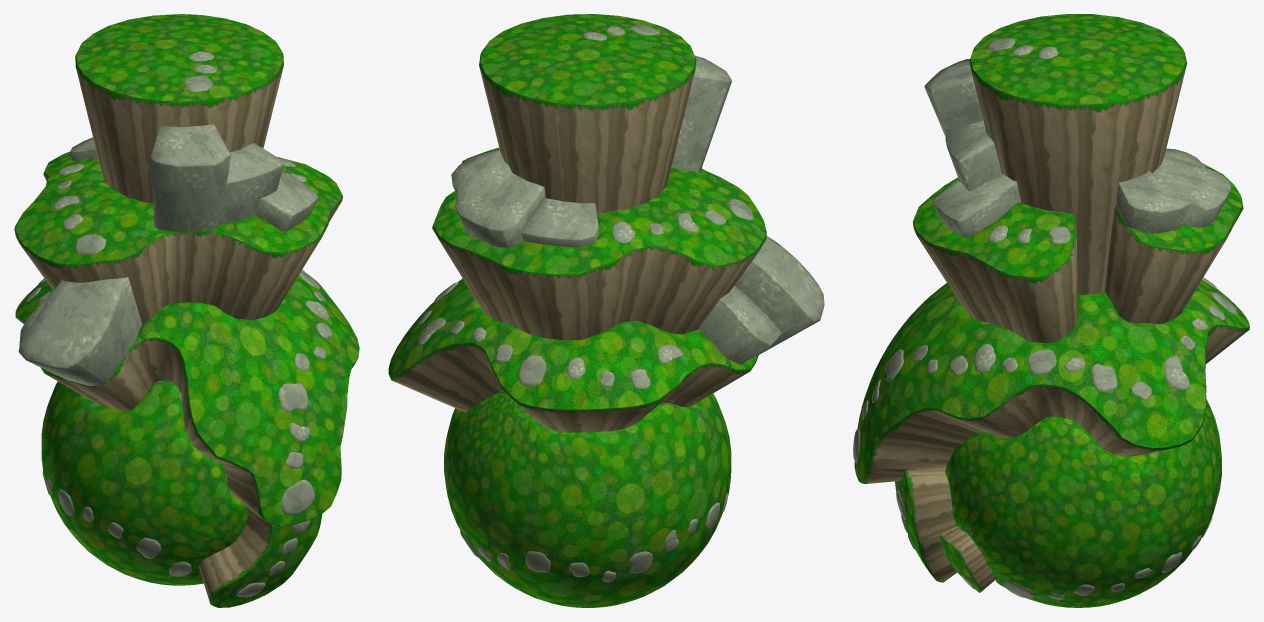
The model's file is tower_planet.obj.
The picture shows the model from 3 angles, left to right: view 1: azimuth 30°, elevation 25°; view 2: azimuth 150°, elevation 25°; view 3: azimuth 270°, elevation 25°; orthographic projection. The views are drawn at different scales.
Parts seen in each view (by area): view 1: n1b0_ID29, n2b1_ID38, n0b2_ID20; view 2: n1b0_ID29, n2b1_ID38, n0b2_ID20; view 3: n1b0_ID29, n2b1_ID38, n0b2_ID20.
Part boxes in pixels (box(x1,y1,x2,y2)): n1b0_ID29: box(15, 14, 359, 607); n2b1_ID38: box(14, 52, 358, 605); n0b2_ID20: box(18, 51, 332, 597); n1b0_ID29: box(388, 14, 765, 607); n2b1_ID38: box(389, 52, 766, 432); n0b2_ID20: box(417, 25, 824, 582); n1b0_ID29: box(854, 14, 1249, 607); n2b1_ID38: box(859, 50, 1249, 592); n0b2_ID20: box(853, 38, 1237, 599).
Bounding box in the file's own units: 28.73 × 41.92 × 27.52.
4 materials, 3 textured.
